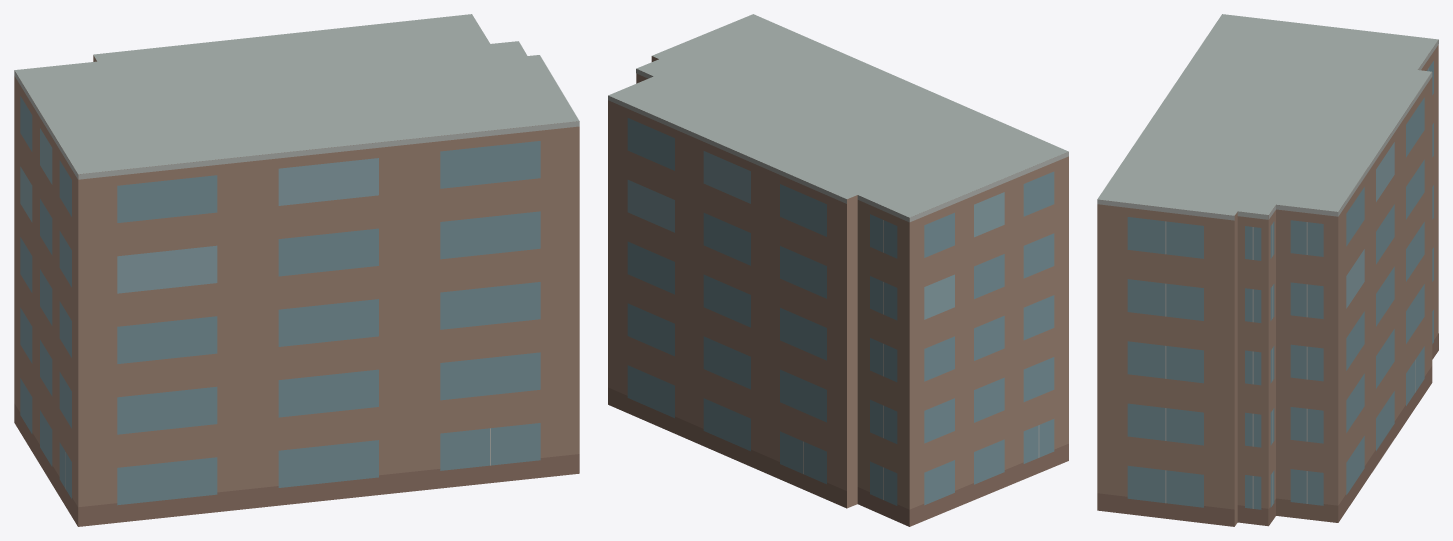
File: survey-upis-32671757.glb
3 renders of one model, left to right at view 1: azimuth 30°, elevation 25°; view 2: azimuth 150°, elevation 25°; view 3: azimuth 270°, elevation 25°, orthographic. The views are drawn at different scales.
Parts seen in each view (by area): view 1: survey-upis-32671757.tmp; view 2: survey-upis-32671757.tmp; view 3: survey-upis-32671757.tmp.
Part boxes in pixels (x1=…): survey-upis-32671757.tmp: x1=14, y1=14, x2=579, y2=526; survey-upis-32671757.tmp: x1=608, y1=14, x2=1068, y2=526; survey-upis-32671757.tmp: x1=1097, y1=14, x2=1438, y2=526.
Size of the model in its own units: 22.13 by 15.9 by 15.83.
